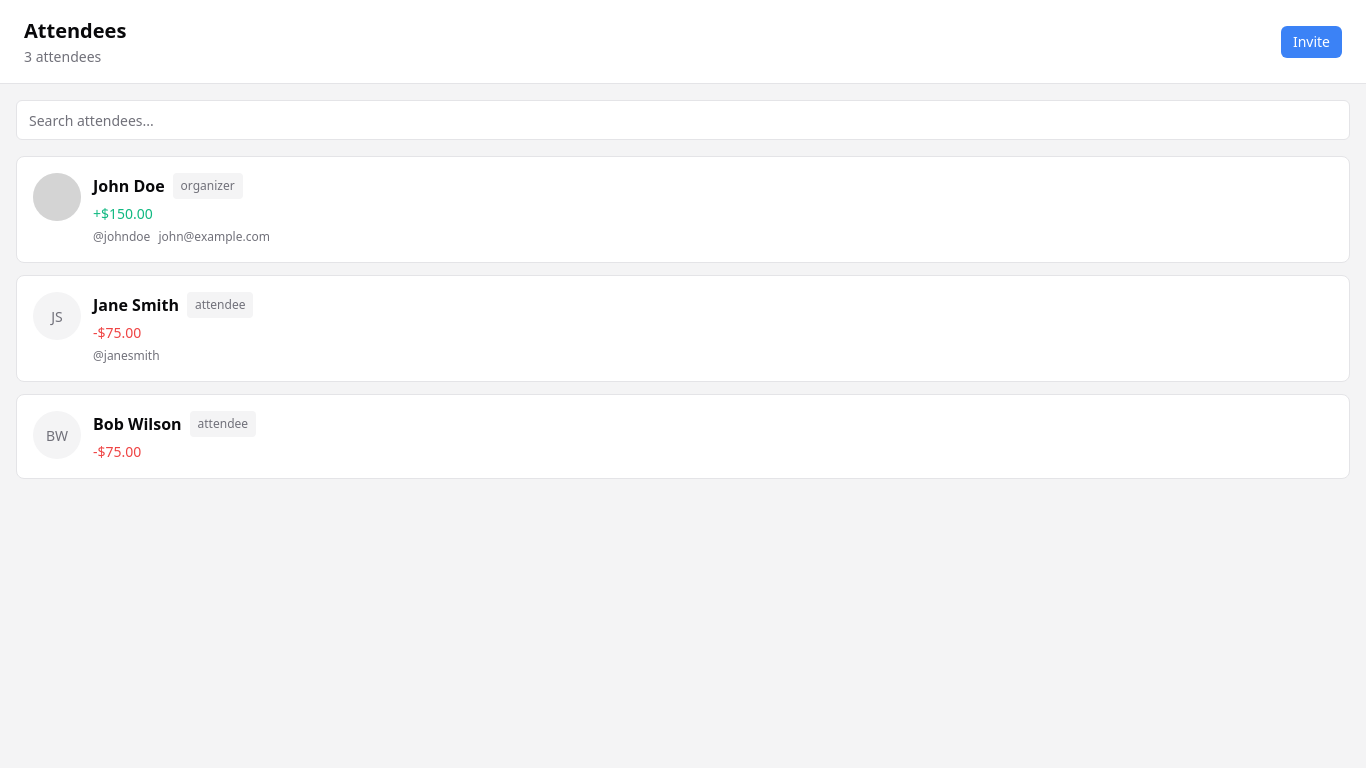
Test: AttendeesPage › search › should filter attendees by search
This screenshot has width=1366, height=768.
Step 1. Type "john" into the field with placeholder "Search attendees..." → (683, 120), box x1=16 y1=100 x2=1350 y2=140
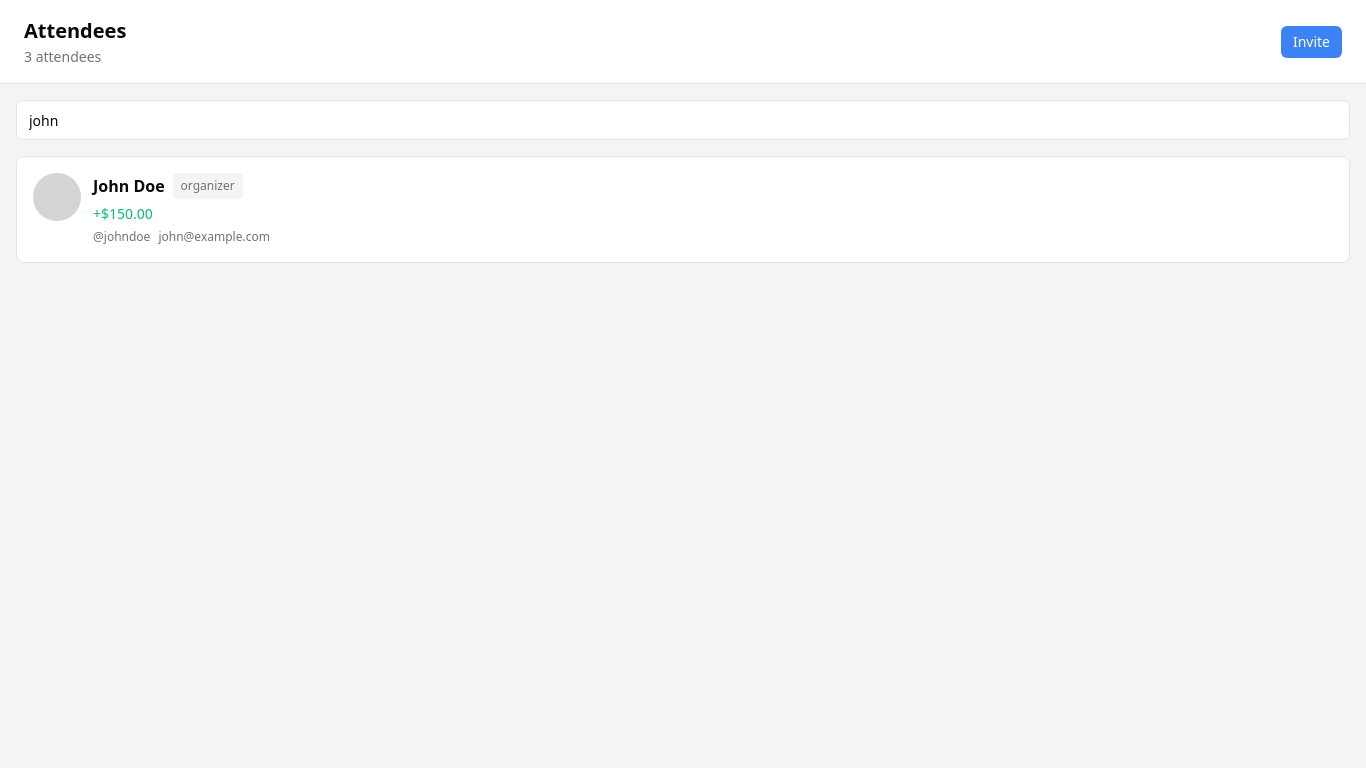
Expected: the heading "John Doe" is shown, x1=93 y1=174 x2=165 y2=198
Result: the heading "Jane Smith" is gone
Result: the heading "Bob Wilson" is gone
